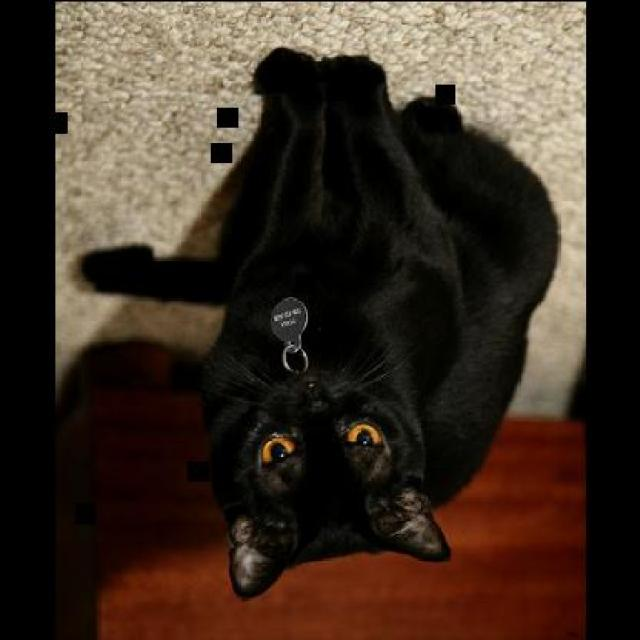unauthorized: (77, 44, 560, 598)
